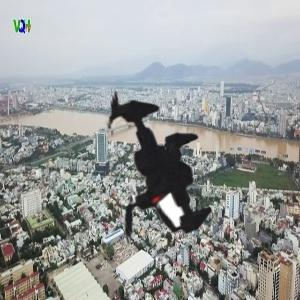drone: (28, 53, 266, 291)
